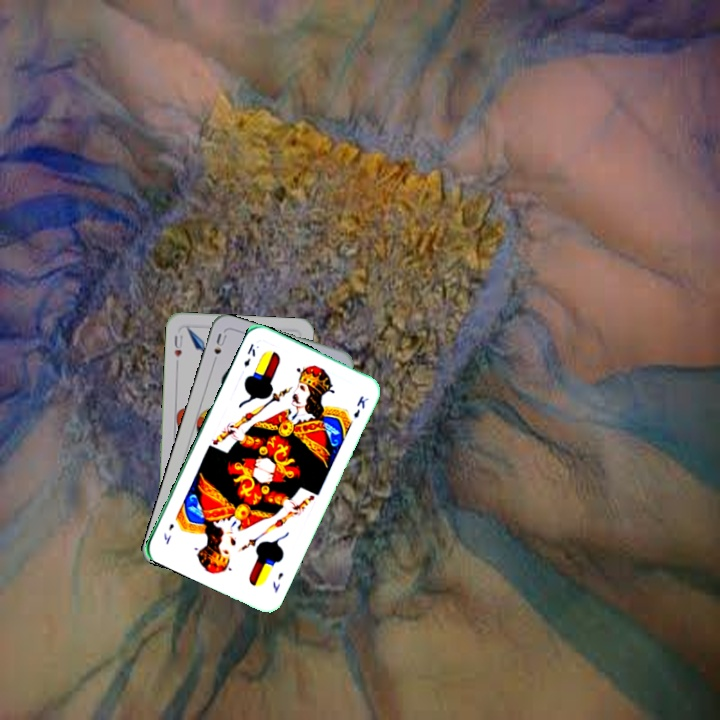EK: (240, 339, 258, 369), (268, 568, 286, 595)
HU: (170, 331, 185, 360)
SU: (208, 329, 229, 368)
